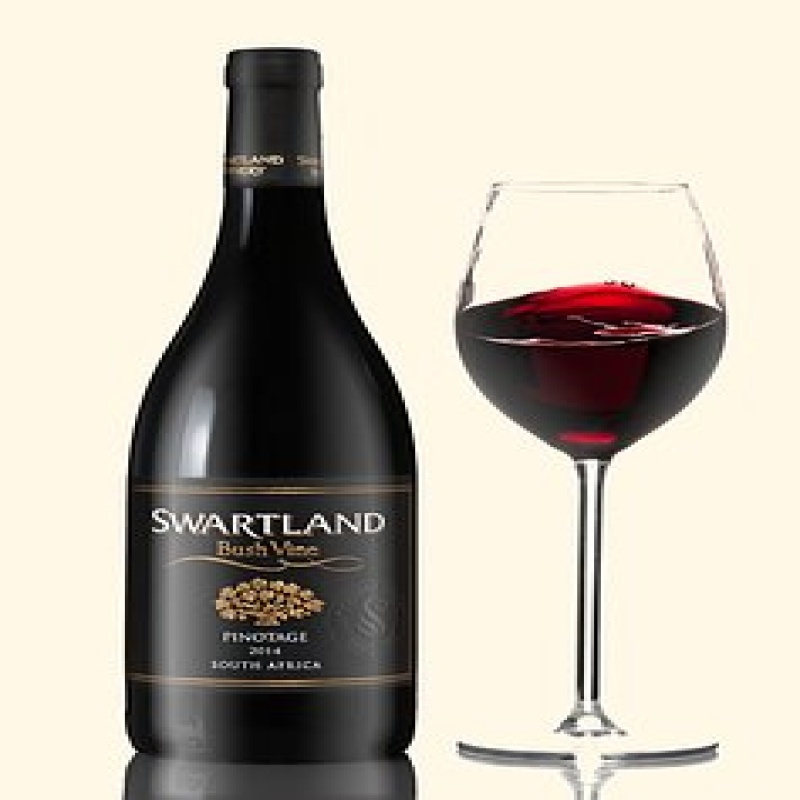wine: (131, 49, 419, 763)
